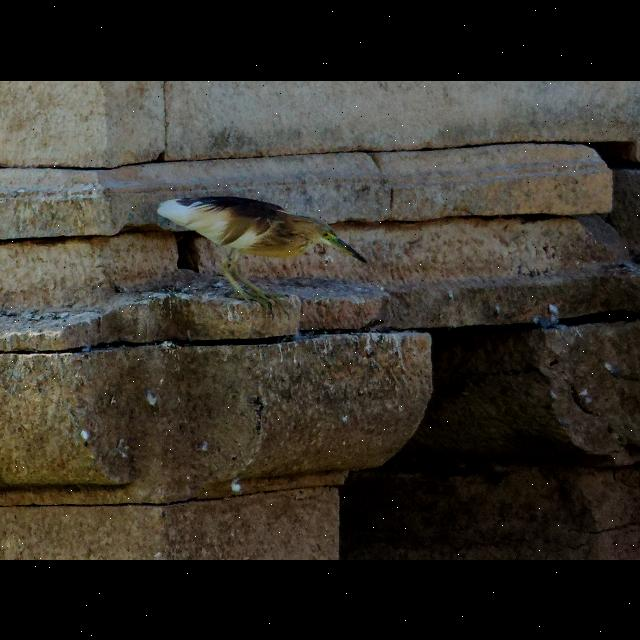heron: (152, 190, 372, 310)
